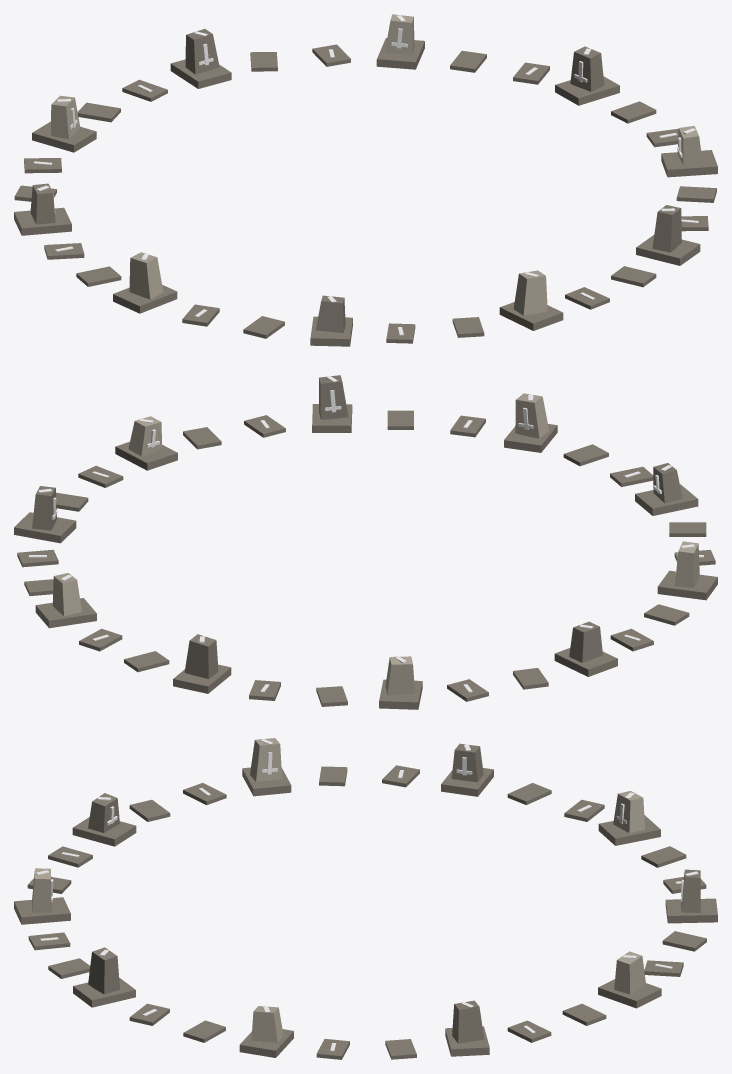
Rendered from Shrine_CaptureRing.fbx.
3 views of the same model, one above another, from view 1: azimuth 30°, elevation 25°; view 2: azimuth 150°, elevation 25°; view 3: azimuth 270°, elevation 25° (orthographic).
Parts seen in each view (by area): view 1: Shrine_CaptureRing; view 2: Shrine_CaptureRing; view 3: Shrine_CaptureRing.
Boxes of the visible parts, x1=… form: Shrine_CaptureRing: x1=14, y1=14, x2=717, y2=346; Shrine_CaptureRing: x1=14, y1=375, x2=717, y2=709; Shrine_CaptureRing: x1=14, y1=738, x2=717, y2=1059.
Size of the model in its own units: 8.48 by 0.585 by 8.67.
